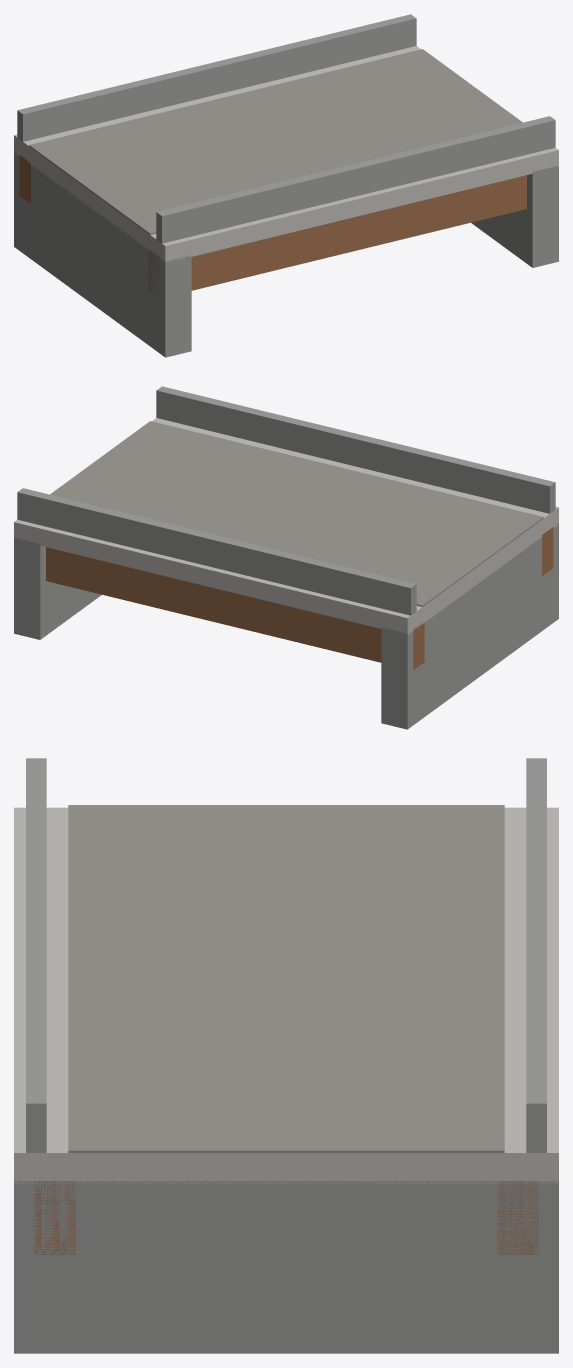
File: OverpassSpan.glb
3 views of the same model, one above another, from view 1: azimuth 30°, elevation 25°; view 2: azimuth 150°, elevation 25°; view 3: azimuth 270°, elevation 25° (orthographic). The views are drawn at different scales.
Parts seen in each view (by area): view 1: Lane.001, Bearing shelf, Parapet.002, Parapet.003, Span deck, Girder.004, Bearing shelf.001, Girder.005; view 2: Lane.001, Bearing shelf, Parapet.003, Parapet.002, Span deck, Girder.005, Bearing shelf.001, Girder.004; view 3: Lane.001, Bearing shelf.001, Span deck, Parapet.002, Parapet.003, Girder.005, Girder.004.
Boxes of the visible parts, x1,y1,x2,y2 form: Lane.001: (29, 49, 522, 234); Bearing shelf: (14, 152, 191, 357); Parapet.002: (156, 116, 555, 243); Parapet.003: (17, 14, 416, 141); Span deck: (14, 46, 558, 262); Girder.004: (148, 175, 526, 296); Bearing shelf.001: (471, 165, 558, 267); Girder.005: (19, 155, 30, 203); Lane.001: (50, 421, 543, 606); Bearing shelf: (381, 523, 558, 729); Parapet.003: (17, 488, 416, 615); Parapet.002: (156, 386, 555, 513); Span deck: (14, 418, 558, 634); Girder.005: (46, 547, 424, 670); Bearing shelf.001: (14, 537, 101, 639); Girder.004: (542, 527, 553, 575); Lane.001: (68, 805, 504, 1152); Bearing shelf.001: (14, 1181, 558, 1353); Span deck: (14, 807, 558, 1183); Parapet.002: (26, 758, 46, 1152); Parapet.003: (526, 758, 546, 1152); Girder.005: (497, 1181, 538, 1254); Girder.004: (34, 1181, 75, 1254).
Size of the model in its own units: 12 by 4.05 by 8.
